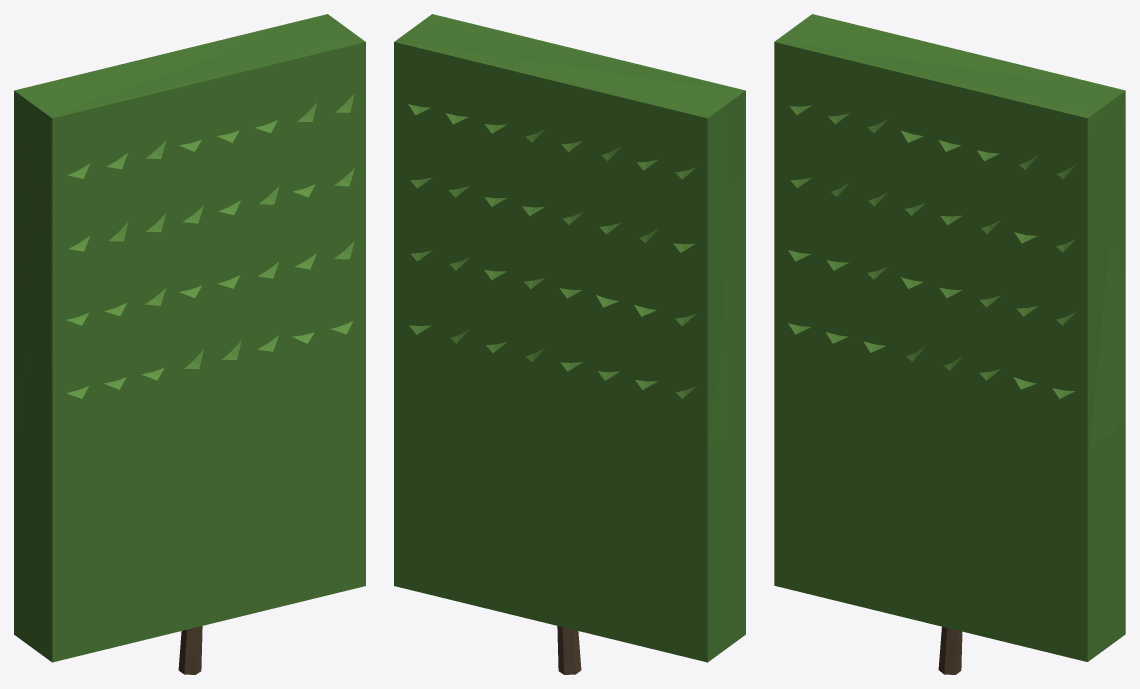
Rendered from grape_wine.glb.
The picture shows the model from 3 angles, left to right: view 1: azimuth 30°, elevation 25°; view 2: azimuth 150°, elevation 25°; view 3: azimuth 330°, elevation 25°; orthographic projection.
Parts seen in each view (by area): view 1: leaves (×3), trunk; view 2: leaves (×3), trunk; view 3: leaves (×3), trunk.
Part boxes in pixels (x1=…): leaves (×3): x1=14, y1=14, x2=365, y2=662; trunk: x1=178, y1=626, x2=202, y2=674; leaves (×3): x1=394, y1=14, x2=745, y2=662; trunk: x1=557, y1=89, x2=664, y2=674; leaves (×3): x1=774, y1=14, x2=1125, y2=661; trunk: x1=938, y1=626, x2=962, y2=674.
Bounding box in the file's own units: 0.5424 × 1 × 0.1406.
